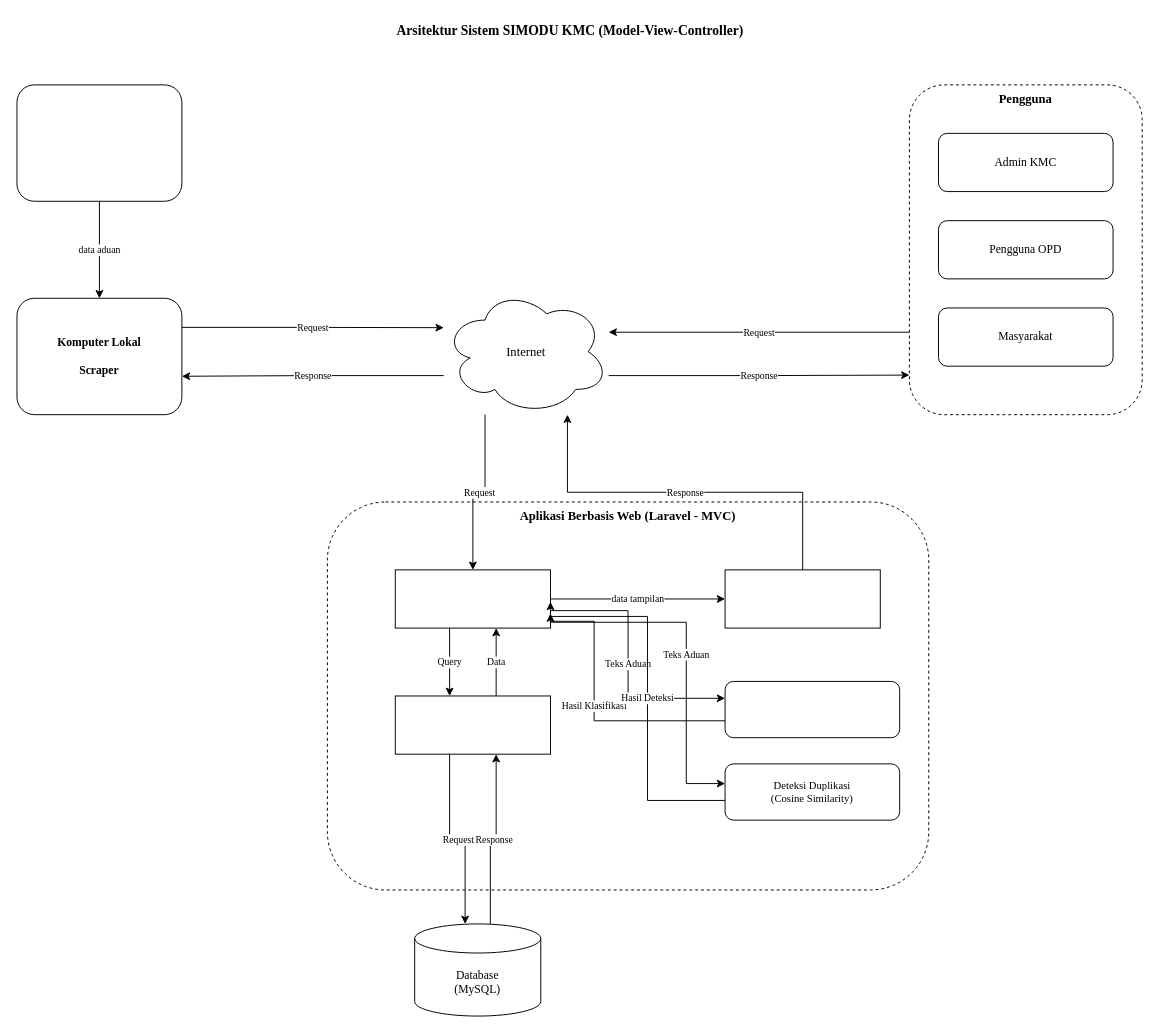
Image size: 1159x1033. Some labels were removed from this diagram. The centre of each missing label's shape, as x and y in pixels:
Controller: (472,598)
Layanan Klasifikasi AI (Gemma API): (812,709)
Model (Eloquent): (472,724)
Sumber Aduan Instagram Facebook: (99,142)
View (Blade): (802,598)
